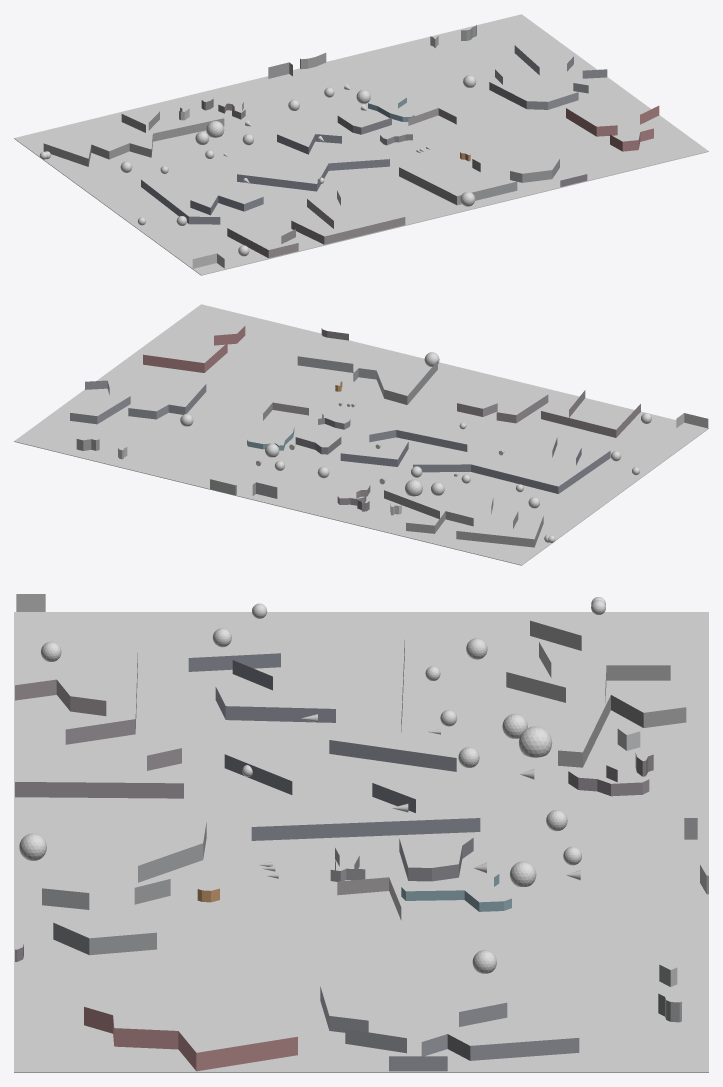
Rendered from scene_67954baf-9fd3-4a1d-beec-dc7ed01fd366.glb.
The picture shows the model from 3 angles, top to bottom: view 1: azimuth 30°, elevation 25°; view 2: azimuth 150°, elevation 25°; view 3: azimuth 270°, elevation 25°; orthographic projection. The views are drawn at different scales.
Visible parts, largest first — view 1: Ground_Base, BLD-010, BLD-003, BLD-018, BLD-004, BLD-012, BLD-006, BLD-009; view 2: Ground_Base, BLD-010, BLD-018, BLD-003, BLD-012, BLD-004, BLD-006; view 3: Ground_Base, BLD-010, BLD-003, BLD-012, BLD-018, BLD-004, BLD-006, BLD-014, BLD-011, BLD-009, BLD-008, TREE-001.
Part boxes in pixels (left/top/right/bottom): Ground_Base: left=14, top=14, right=708, bottom=275; BLD-010: left=141, top=134, right=389, bottom=224; BLD-003: left=227, top=190, right=405, bottom=258; BLD-018: left=43, top=111, right=224, bottom=166; BLD-004: left=399, top=159, right=559, bottom=205; BLD-012: left=489, top=45, right=607, bottom=109; BLD-006: left=566, top=106, right=659, bottom=151; BLD-009: left=337, top=116, right=391, bottom=134; Ground_Base: left=14, top=304, right=708, bottom=565; BLD-010: left=340, top=430, right=610, bottom=493; BLD-018: left=384, top=490, right=543, bottom=547; BLD-003: left=457, top=390, right=640, bottom=437; BLD-012: left=70, top=380, right=206, bottom=424; BLD-004: left=297, top=356, right=437, bottom=404; BLD-006: left=143, top=326, right=245, bottom=372; Ground_Base: left=14, top=612, right=708, bottom=1072; BLD-010: left=188, top=640, right=480, bottom=840; BLD-003: left=15, top=653, right=183, bottom=798; BLD-012: left=320, top=986, right=579, bottom=1071; BLD-018: left=506, top=620, right=686, bottom=767; BLD-004: left=42, top=822, right=206, bottom=955; BLD-006: left=84, top=1007, right=297, bottom=1071; BLD-014: left=568, top=765, right=649, bottom=796; BLD-011: left=401, top=874, right=511, bottom=911; BLD-009: left=399, top=838, right=473, bottom=881; BLD-008: left=337, top=877, right=401, bottom=920; TREE-001: left=519, top=726, right=552, bottom=757.
Size of the model in its own units: 370 by 11.3 by 234.
